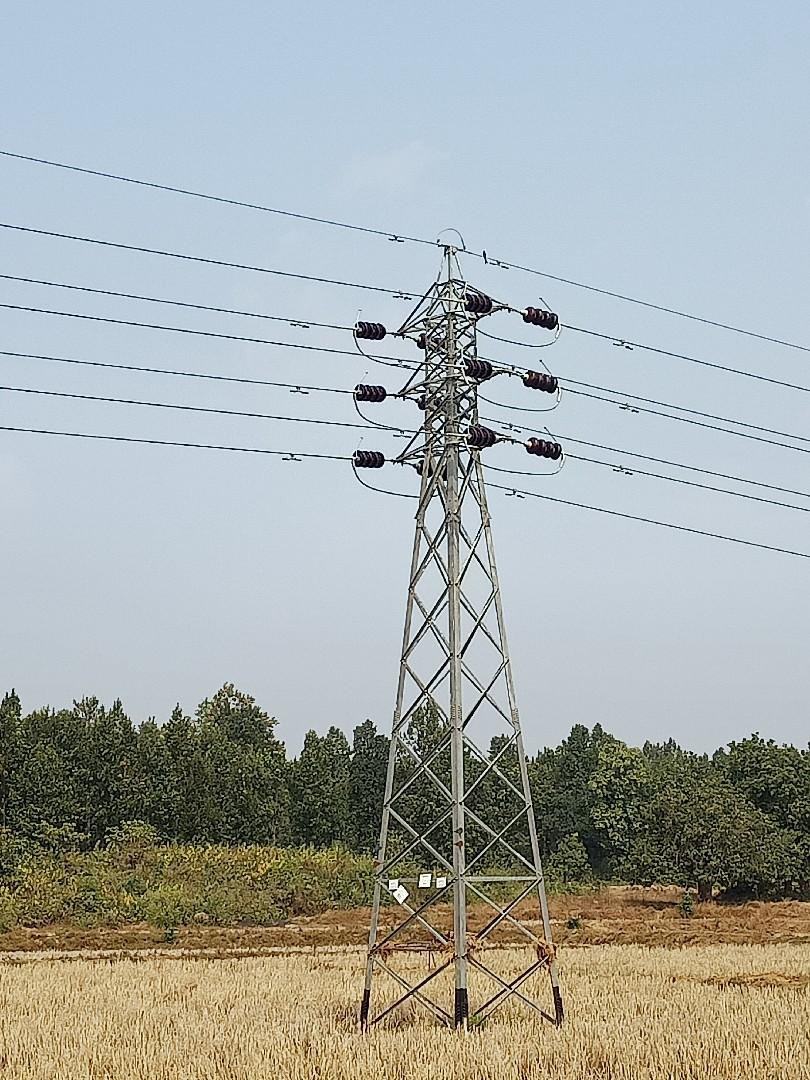GSM Antenna: (352, 241, 570, 989)
